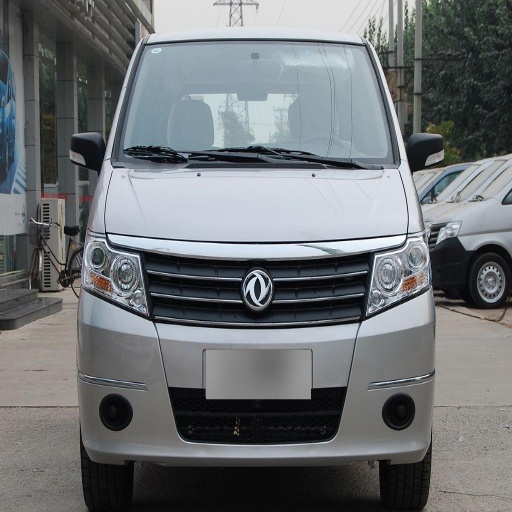front_bumper: (80, 233, 430, 459)
front_right_light: (83, 230, 150, 318)
hood: (100, 162, 409, 242)
left_mirror: (410, 131, 444, 169)
